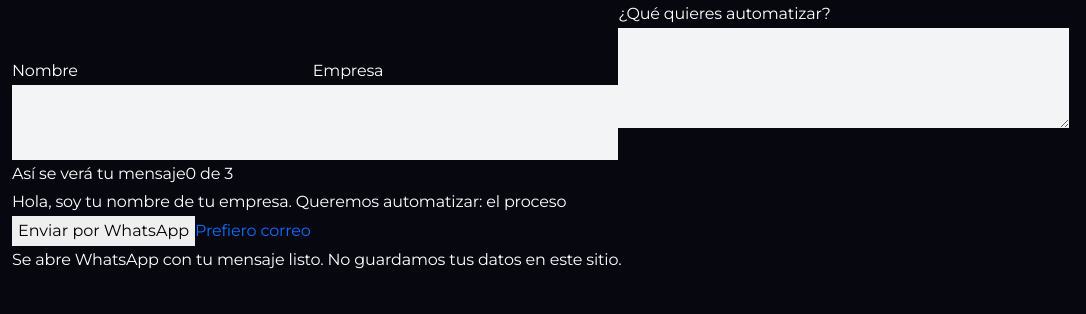
Test: LeadForm no abre WhatsApp con campos vacíos
The width and height of the screenshot is (1086, 314).
What coordinates should you click on to do the following:
click the button "Enviar por WhatsApp"
I would click on:
 (104, 231)
Its box is [12,216,195,246].
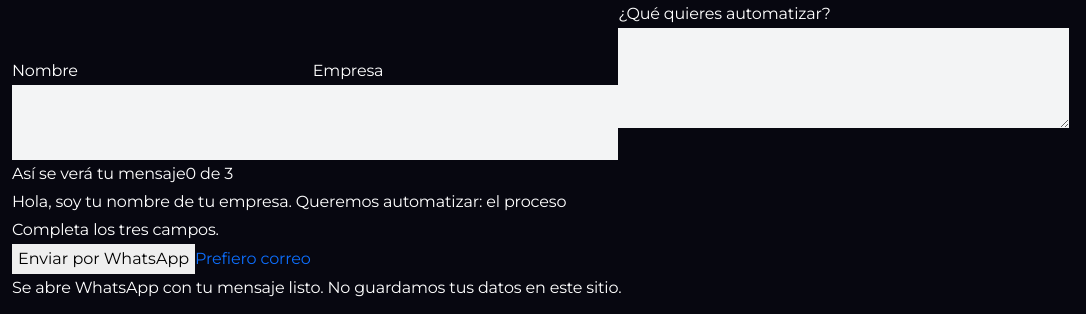
Result: the message reads "Completa los tres campos." at [12,220,219,239]
